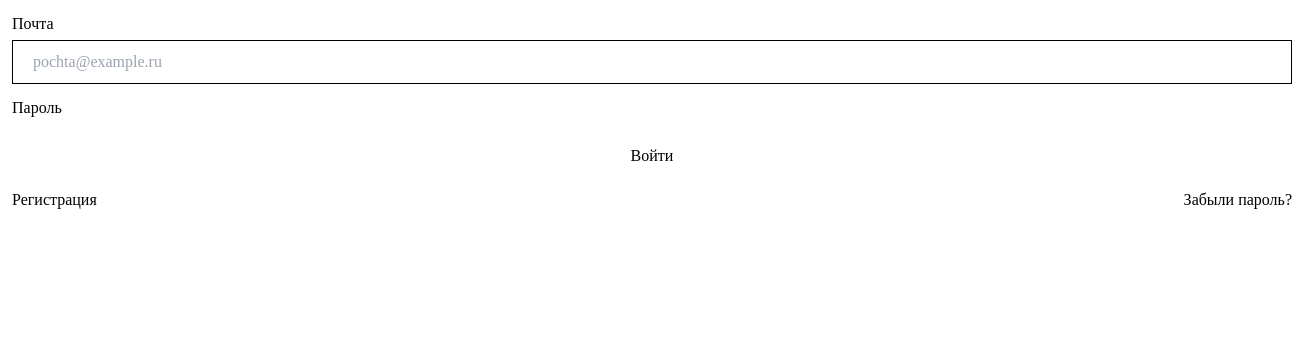
Scenario: EmailAuthForm: поле имени › спрашивает имя только при регистрации
Expected: the field labelled "Имя" is not shown
Click the button "Регистрация". click: coordinates (54, 200)
box: left=12, top=188, right=97, bottom=212
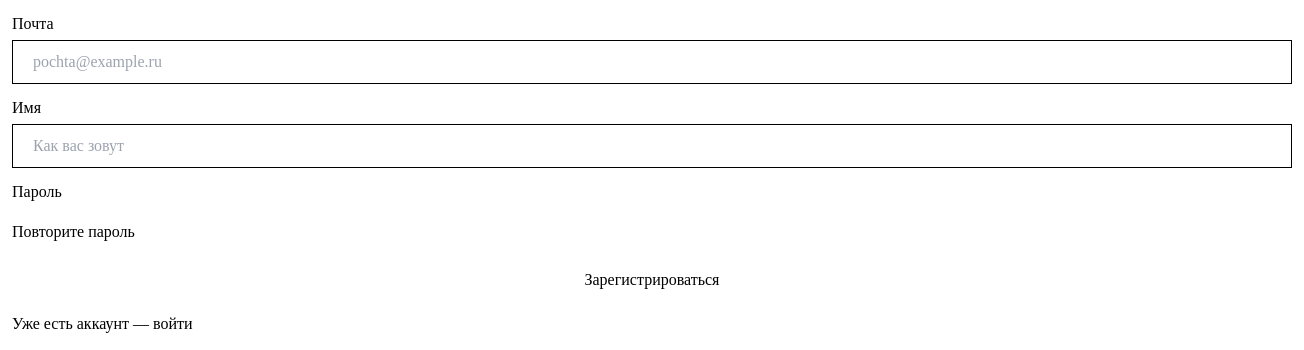
Expected: the field labelled "Имя" is shown, left=12, top=124, right=1292, bottom=168
